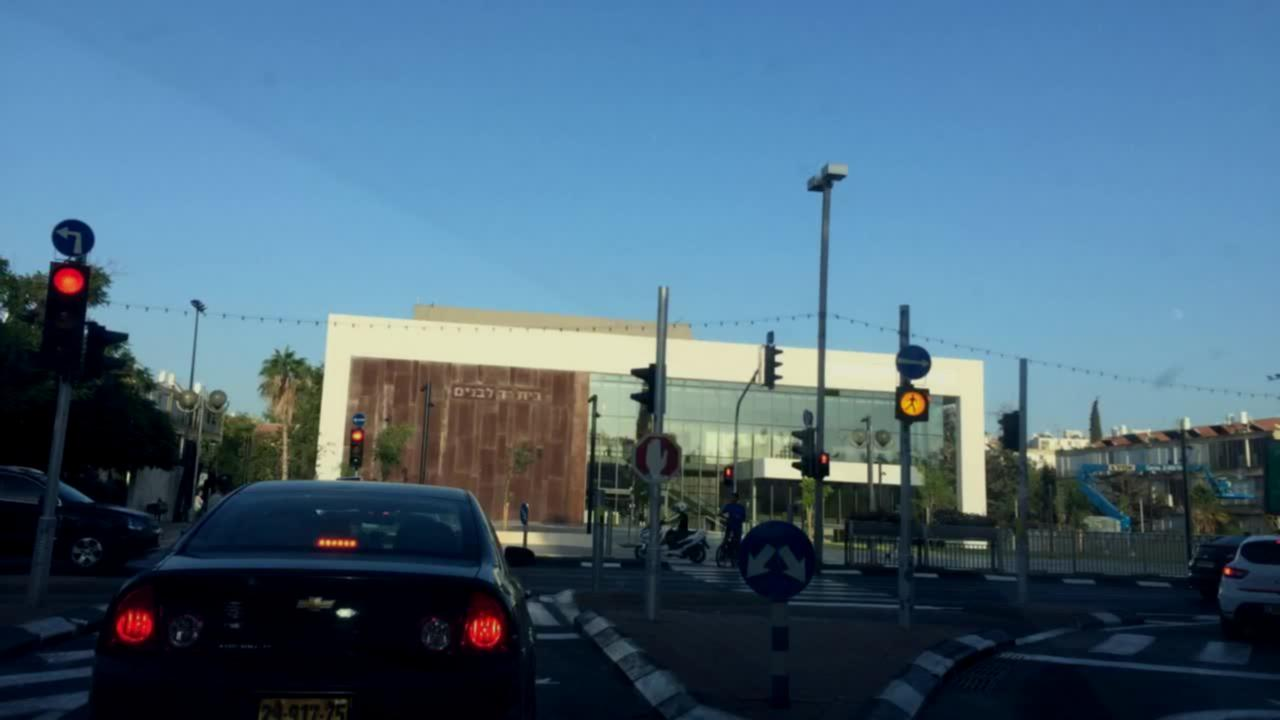chevrolet: (291, 583, 341, 621)
